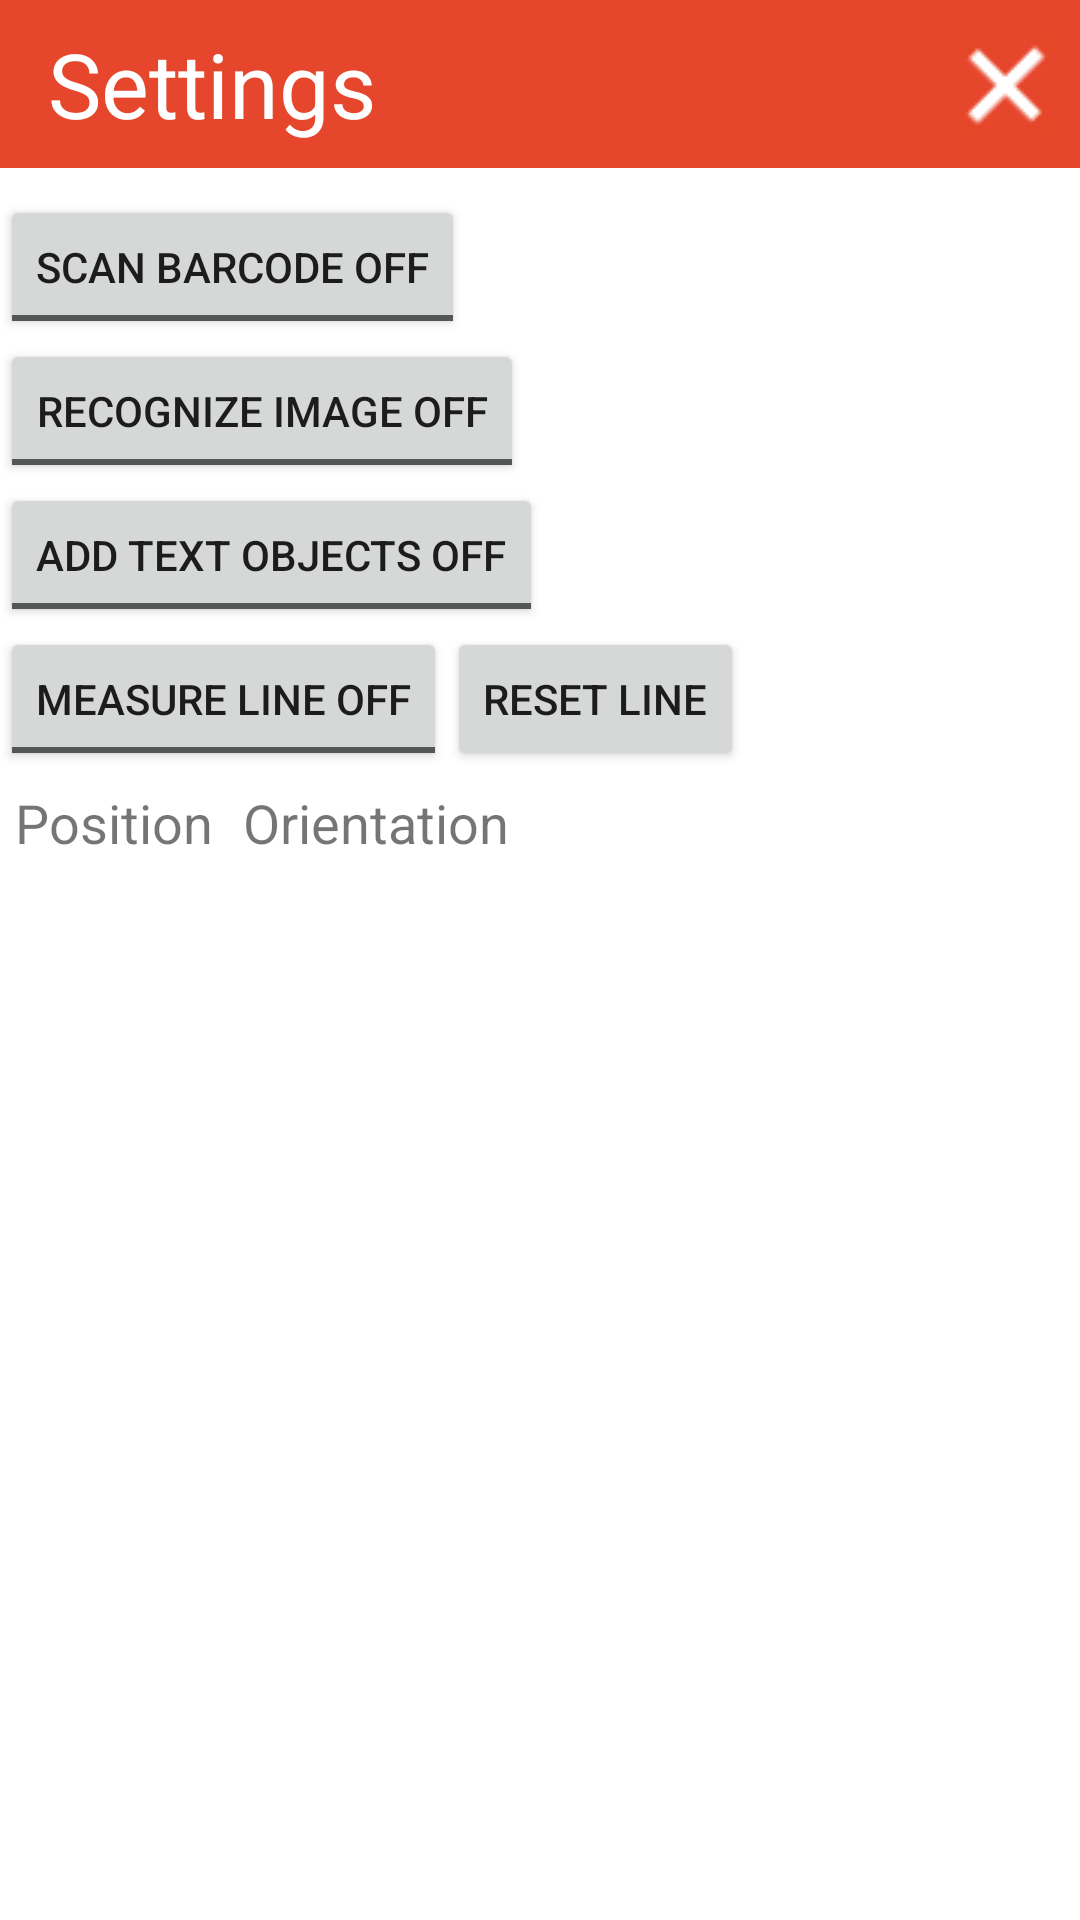

Icon bounding boxes for this 1080px x 1920px phone screenshot, format {"left": x1, "top": y1, "right": x2, "bottom": y2}:
close: {"left": 967, "top": 46, "right": 1045, "bottom": 124}
